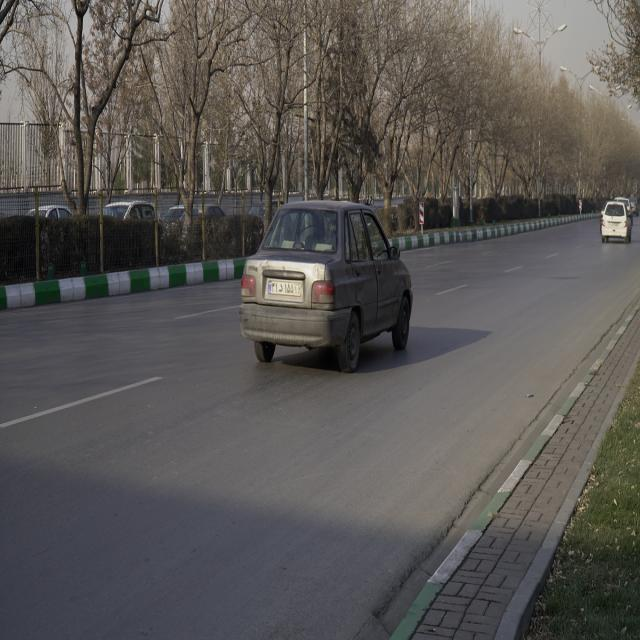truck: (240, 202, 413, 370), (598, 205, 631, 246)
